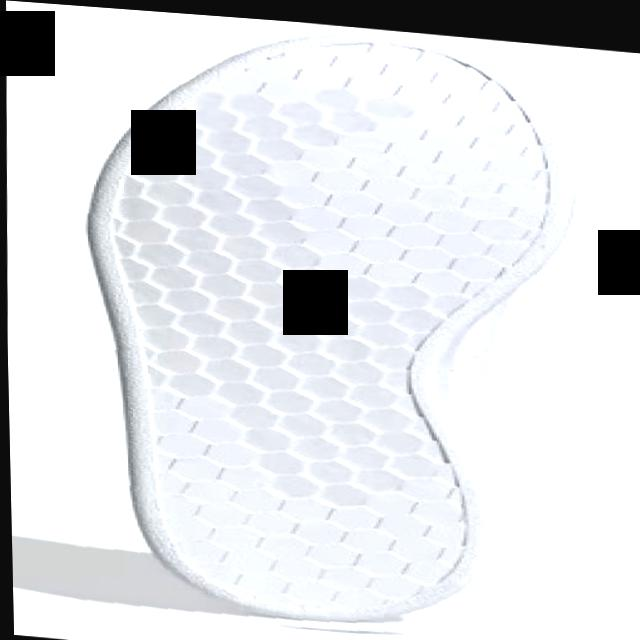shoe: (63, 8, 601, 640)
